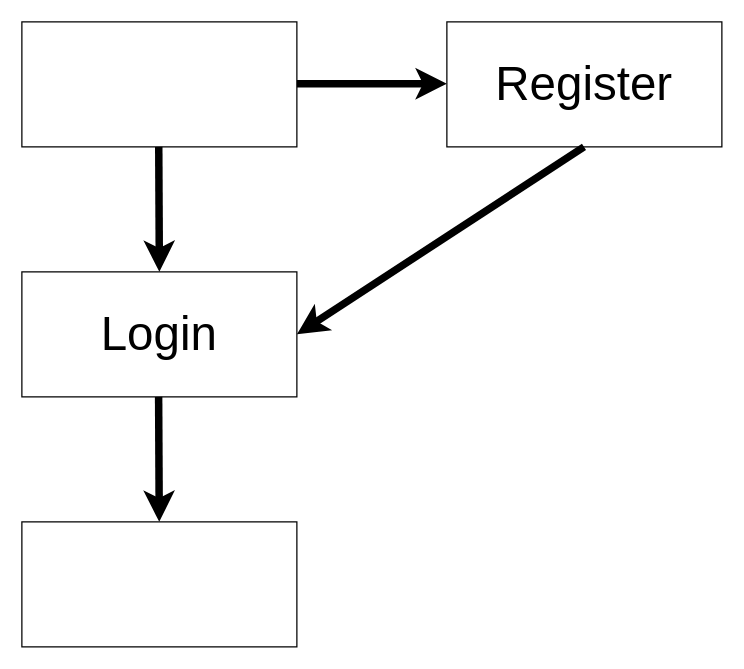
The diagram is 744 pixels wide and 669 high, and some of its shapes have lost their labels. The centre of each missing label's shape, as x and y in pixels:
"DashBoard" belongs at point 159,584.
"Home Page" belongs at point 159,84.
